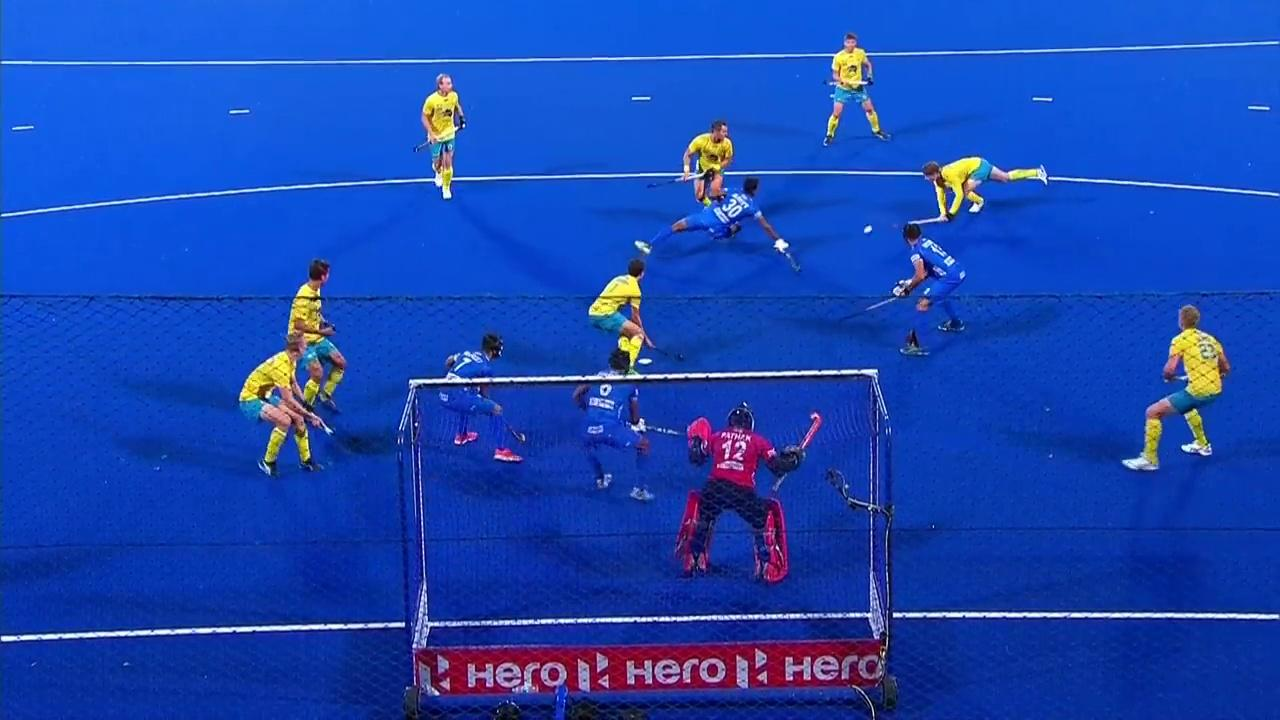ball: (858, 221, 874, 236)
